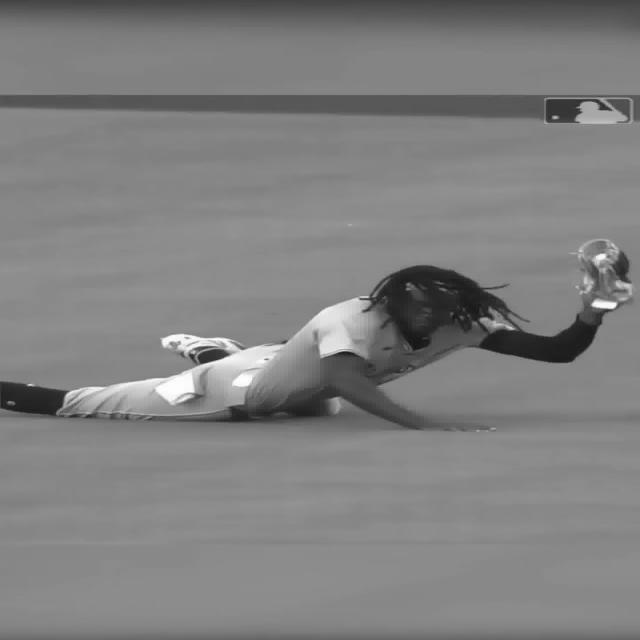baseball: (592, 252, 612, 270)
baseball_glove: (576, 242, 640, 302)
shoe: (149, 332, 259, 359)
